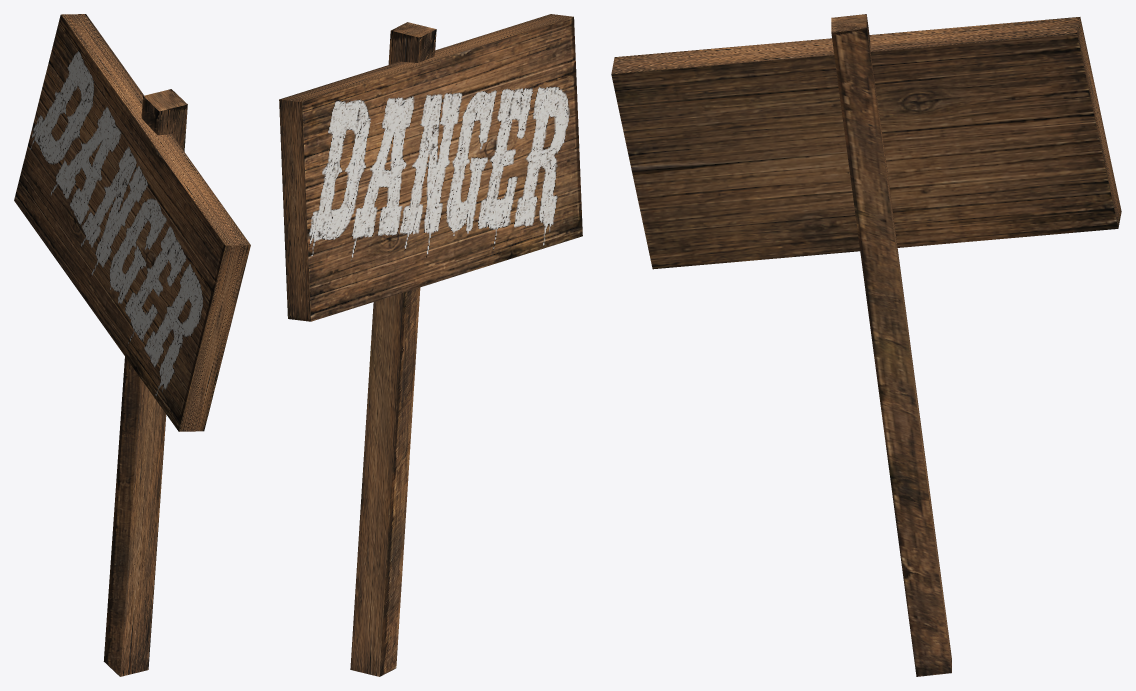
The model's file is Table.fbx.
3 renders of one model, left to right at view 1: azimuth 30°, elevation 25°; view 2: azimuth 150°, elevation 25°; view 3: azimuth 270°, elevation 25°, orthographic. The views are drawn at different scales.
Visible parts, largest first — view 1: Cube.005; view 2: Cube.005; view 3: Cube.005.
Part boxes in pixels (x1=…): Cube.005: x1=14, y1=14, x2=250, y2=676; Cube.005: x1=279, y1=14, x2=582, y2=676; Cube.005: x1=611, y1=14, x2=1121, y2=676.
Size of the model in its own units: 23.73 by 134 by 95.1.
1 material, 1 textured.
